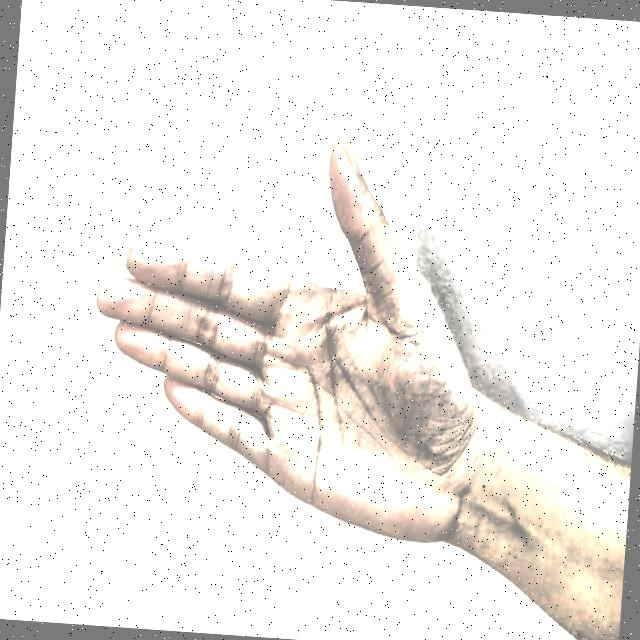Aa: (66, 89, 493, 575)
